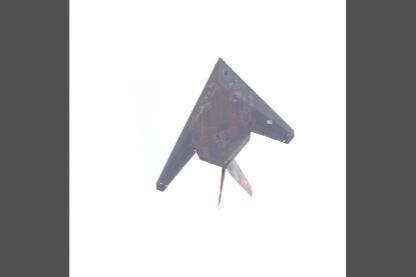E7: (156, 55, 295, 210)
